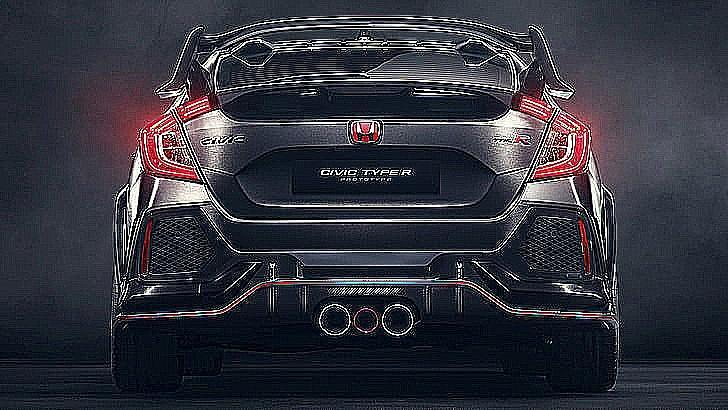Car boot: (169, 71, 560, 247)
Rear bumper: (105, 175, 623, 364)
Rear light - -L-: (136, 91, 222, 187)
Rear light - -R-: (519, 95, 590, 186)
